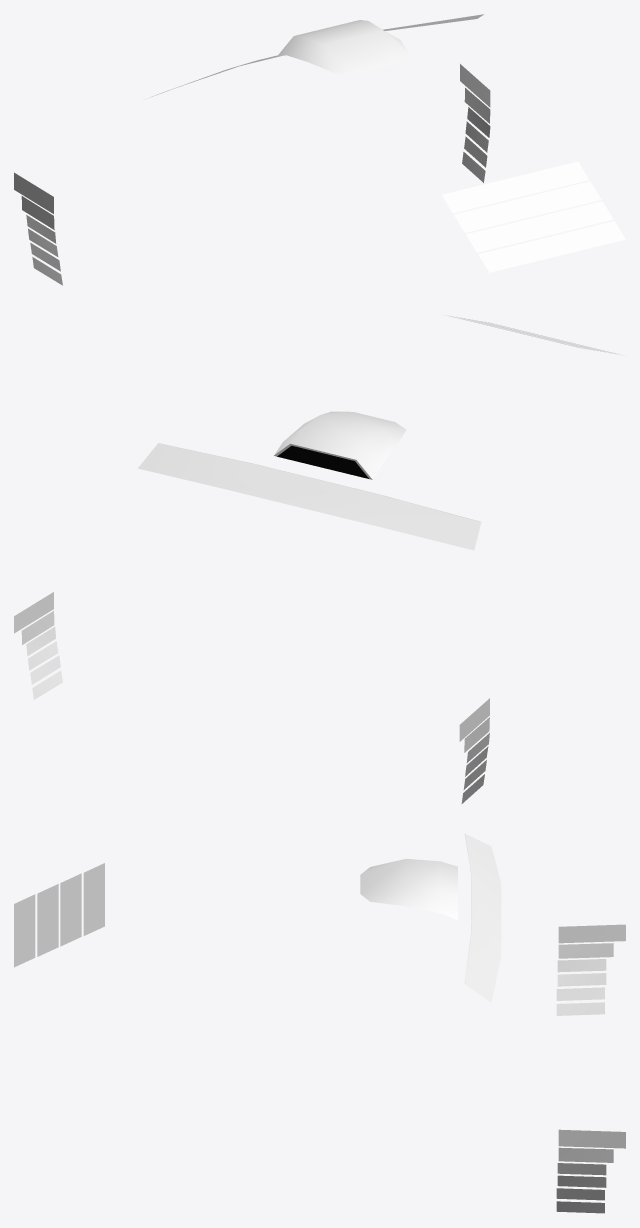
3 renders of one model, top to bottom at view 1: azimuth 30°, elevation 25°; view 2: azimuth 150°, elevation 25°; view 3: azimuth 270°, elevation 25°, orthographic. The views are drawn at different scales.
Parts seen in each view (by area): view 1: rf_a_s; view 2: rf_a_s; view 3: rf_a_s.
Boxes of the visible parts, x1,y1,x2,y2 form: rf_a_s: (14, 14, 625, 285); rf_a_s: (14, 315, 622, 803); rf_a_s: (14, 834, 625, 1213).
Bounding box in the file's own units: 2.16 × 1.17 × 2.69.
Materials: 3 (3 with a texture image).
